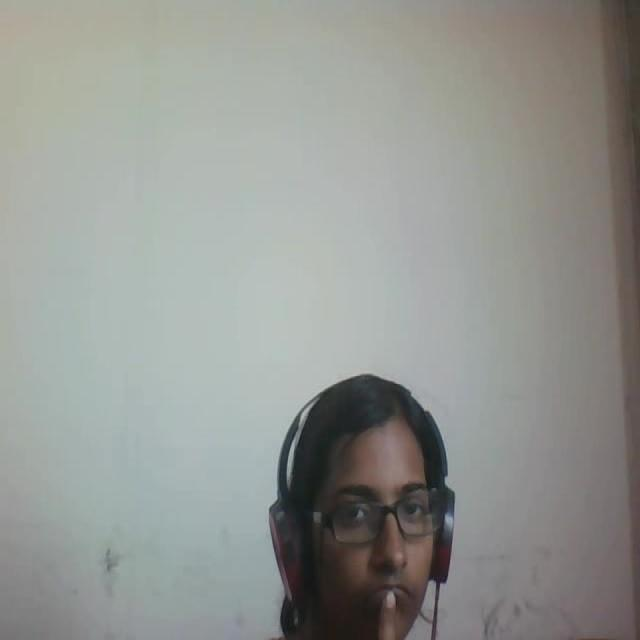Engaged: (241, 345, 474, 640)
